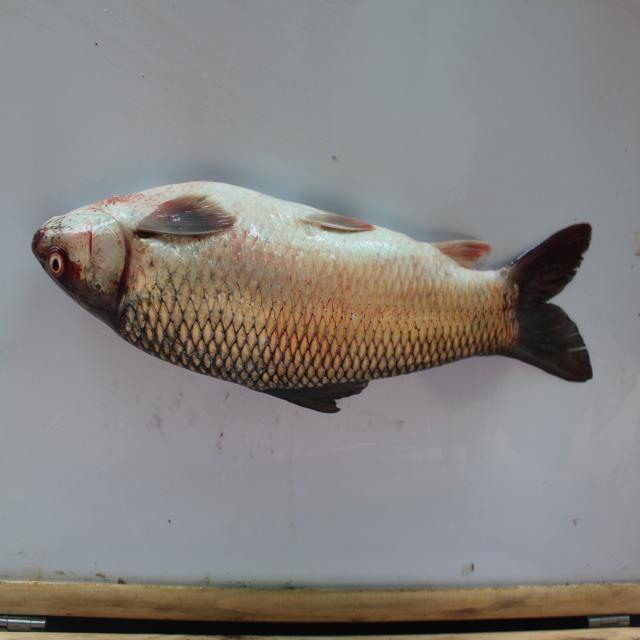Mori: (24, 166, 600, 449)
